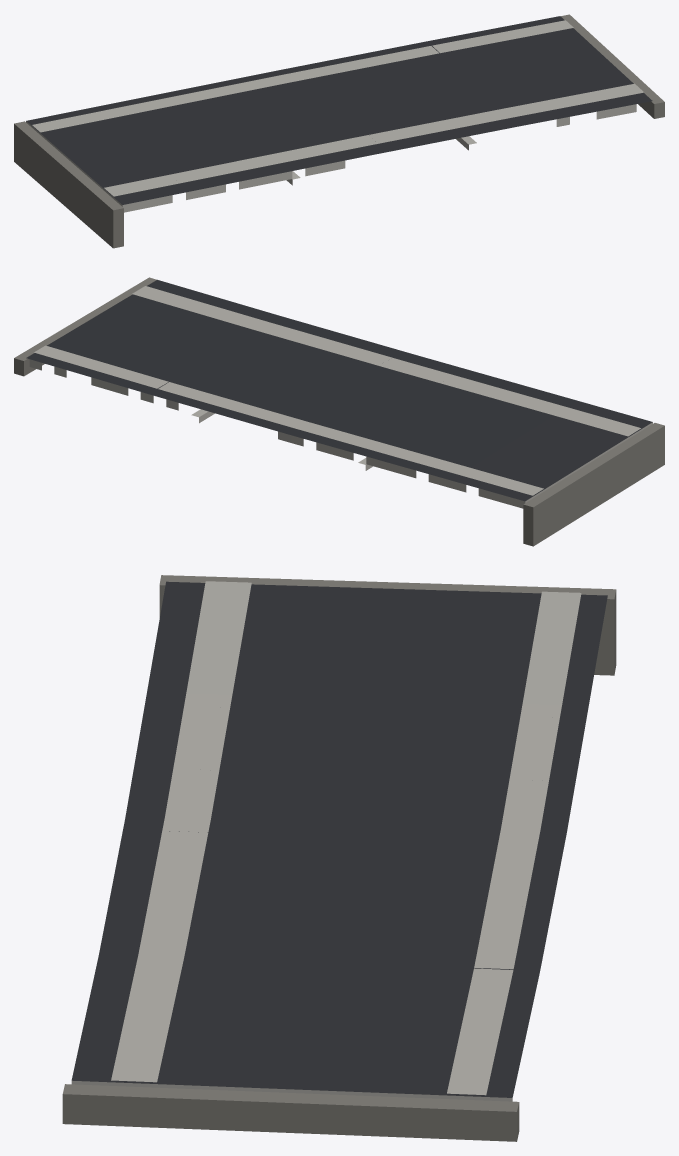
File: br_w85_fox_drive_lod2.gltf
3 renders of one model, top to bottom at view 1: azimuth 30°, elevation 25°; view 2: azimuth 150°, elevation 25°; view 3: azimuth 270°, elevation 25°, orthographic. The views are drawn at different scales.
Parts seen in each view (by area): view 1: br_w85_fox_drive_lod2; view 2: br_w85_fox_drive_lod2; view 3: br_w85_fox_drive_lod2.
Boxes of the visible parts, x1,y1,x2,y2 form: br_w85_fox_drive_lod2: (14,14,664,248); br_w85_fox_drive_lod2: (14,277,664,546); br_w85_fox_drive_lod2: (62,575,616,1141).
Size of the model in its own units: 95.25 by 6.82 by 41.86.
